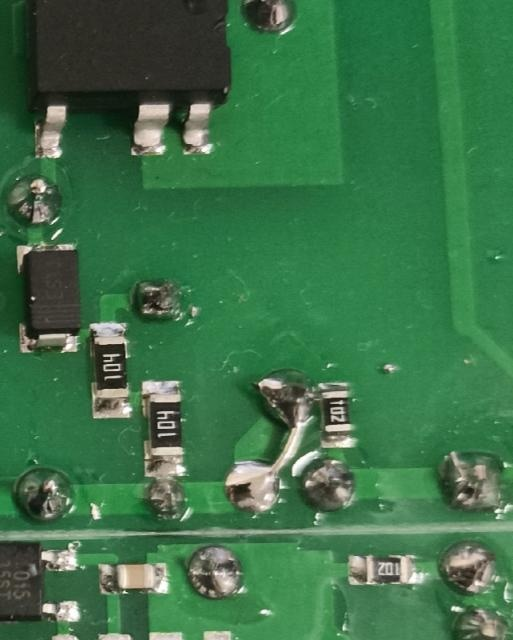chip-capacitor: (98, 563, 169, 593)
chip-resistor: (140, 376, 187, 479), (87, 320, 134, 420), (317, 379, 355, 452), (346, 551, 419, 589)
diode: (11, 238, 84, 354)
ic: (23, 0, 234, 159)
